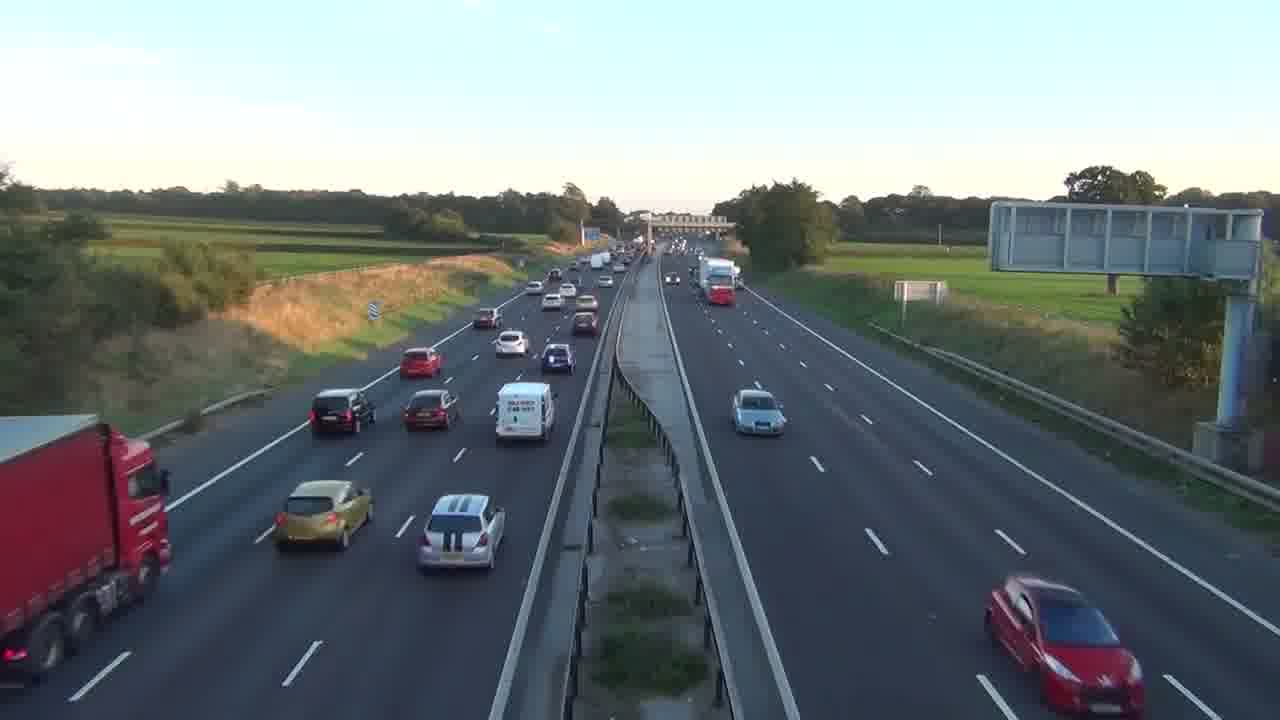car: (982, 572, 1147, 718), (415, 493, 508, 574), (272, 479, 374, 552), (308, 387, 375, 437), (730, 386, 788, 437), (400, 388, 463, 431), (399, 347, 443, 379), (542, 343, 576, 375), (494, 329, 530, 357)
truck: (0, 415, 174, 685)
